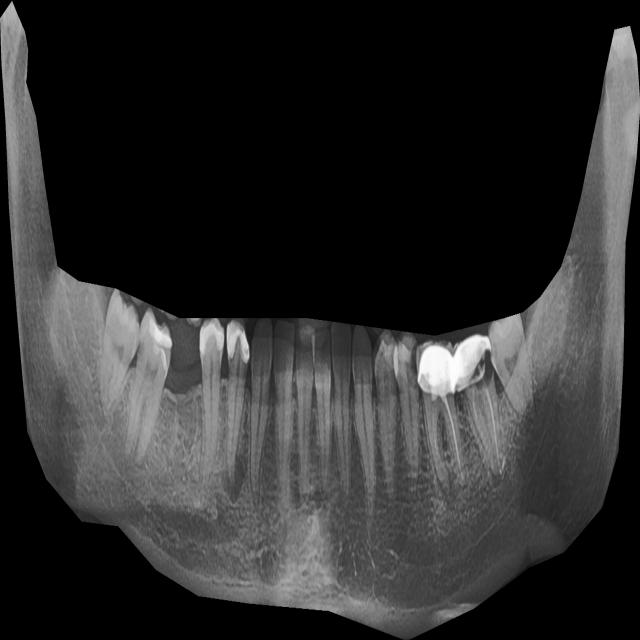mandibula: (0, 1, 640, 640)
